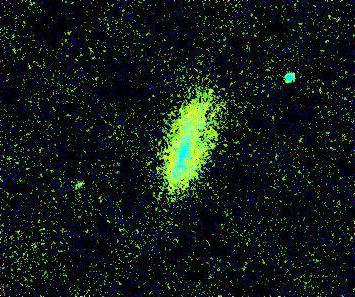star: (198, 101, 228, 131)
